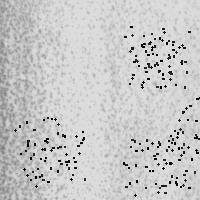pitted_surface: (87, 1, 199, 200), (1, 1, 73, 200), (129, 26, 188, 86), (25, 129, 84, 185), (123, 139, 183, 194), (124, 34, 184, 86), (14, 117, 65, 171), (154, 136, 200, 187), (170, 95, 200, 150)
